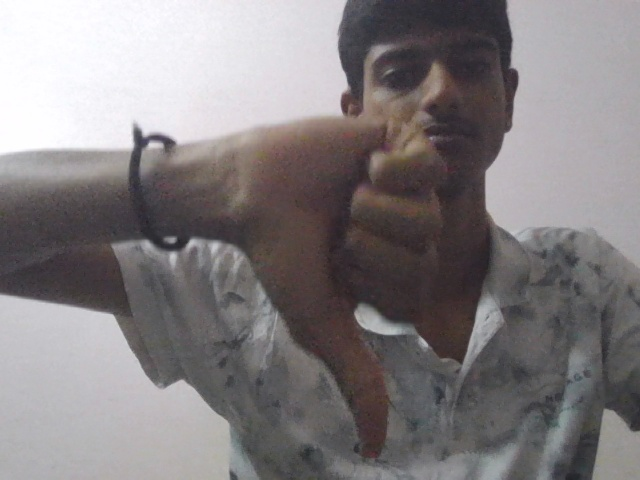no: (236, 122, 453, 455)
